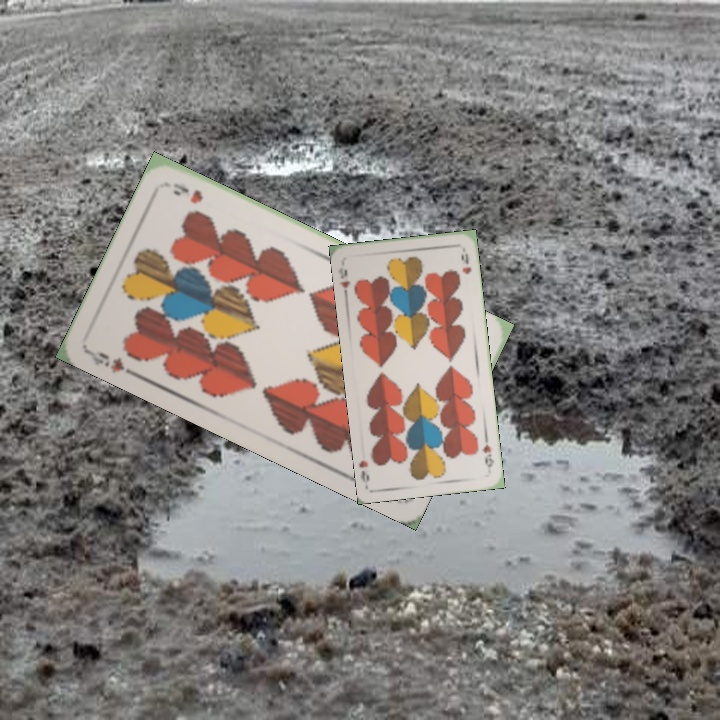H9: (84, 346, 140, 380), (334, 263, 353, 300), (478, 440, 497, 473)
